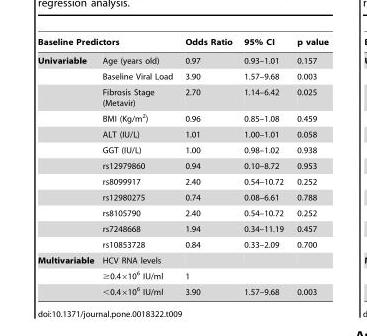table: (37, 37, 328, 296)
table column: (97, 37, 178, 296), (37, 37, 97, 296), (178, 37, 237, 296), (237, 37, 289, 296), (289, 37, 328, 296)
table column header: (37, 37, 328, 68)
table row: (37, 84, 328, 109), (37, 51, 328, 68), (37, 109, 328, 126), (37, 68, 328, 84), (37, 126, 328, 142), (37, 157, 328, 173), (37, 173, 328, 189), (37, 189, 328, 205), (37, 220, 328, 236), (37, 236, 328, 252), (37, 267, 328, 283), (37, 142, 328, 157), (37, 205, 328, 220), (37, 252, 328, 267), (37, 37, 328, 51), (37, 283, 328, 296)
table spanning cell: (37, 252, 97, 296), (37, 37, 178, 51), (178, 37, 237, 68), (237, 37, 289, 68), (289, 37, 328, 68)
